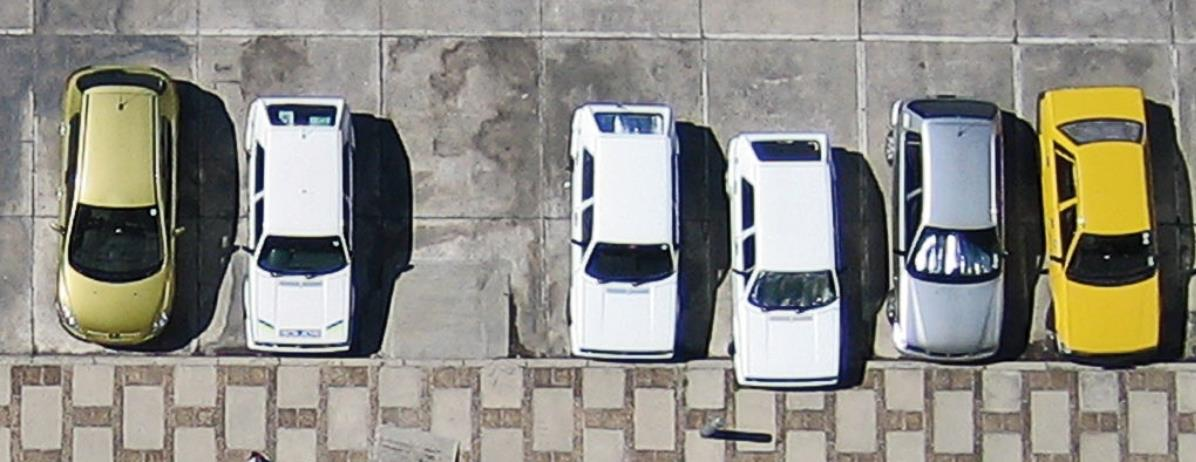car: (1028, 81, 1166, 369), (50, 61, 182, 351), (883, 91, 1014, 371), (720, 130, 850, 392), (232, 91, 360, 357), (562, 100, 684, 364)
